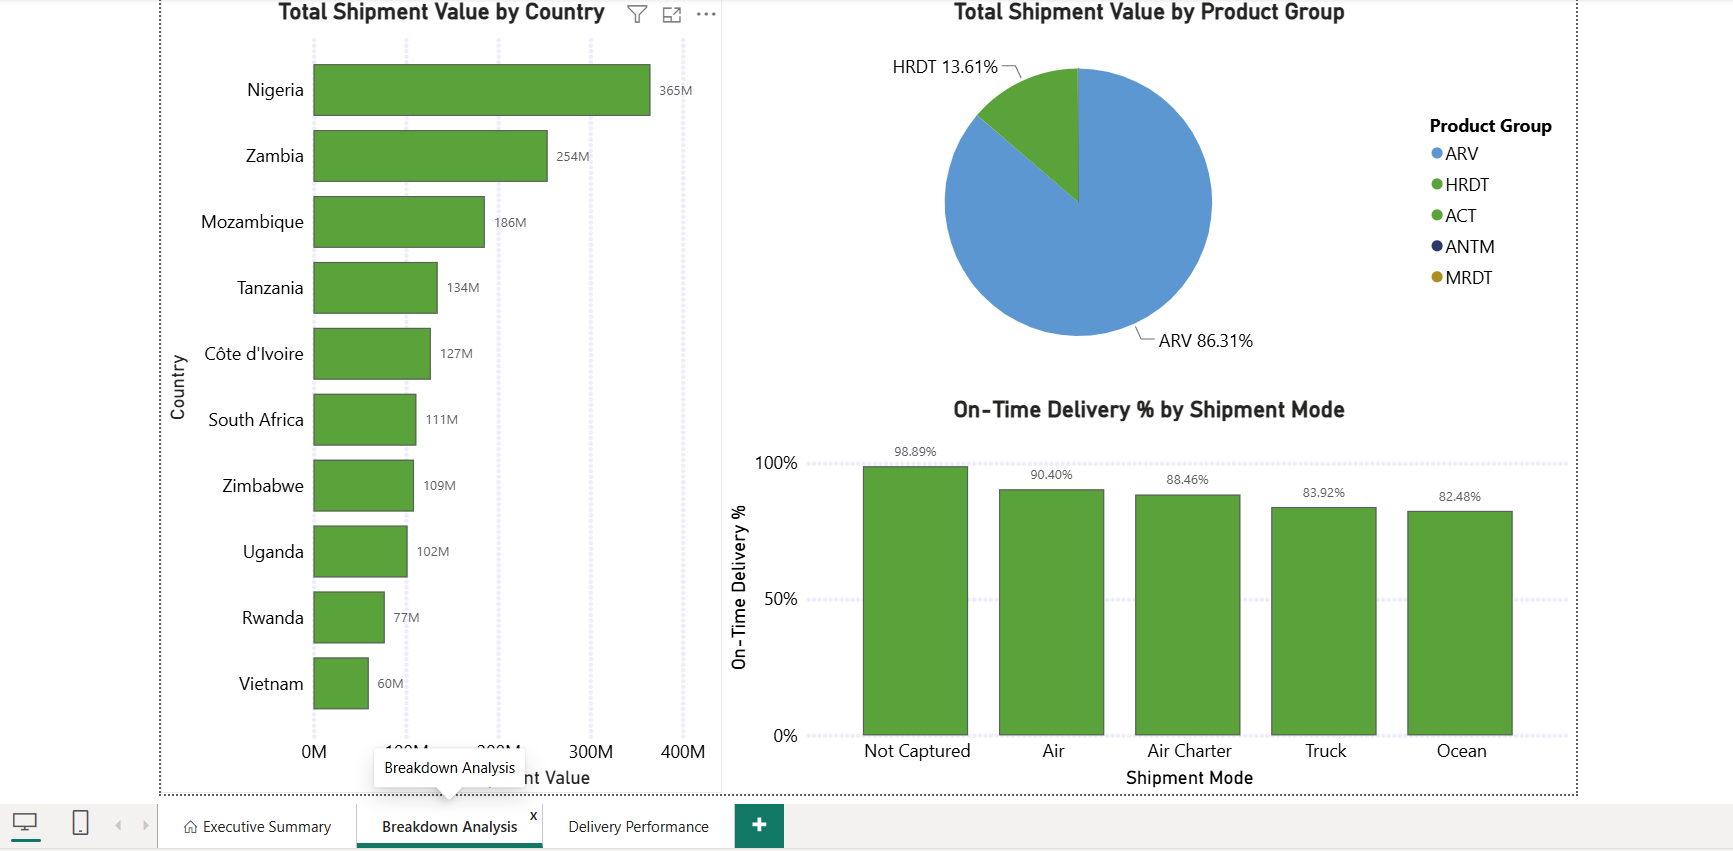

What the dashboard file says about the page in this screenshot:
{"tool":"powerbi","page":{"name":"Breakdown Analysis","canvas":[1280,720],"ordinal":1},"visuals":[{"type":"barChart","fields":{"Category":["cleaned_data.Country"],"Y":["cleaned_data.Total Shipment Value"]},"box":[0,0,507.8,719.5],"z":0},{"type":"clusteredColumnChart","fields":{"Category":["cleaned_data.Shipment Mode"],"Y":["cleaned_data.On-Time Delivery %"]},"box":[507.8,359.7,772.7,359.7],"z":1000},{"type":"pieChart","fields":{"Category":["cleaned_data.Product Group"],"Y":["cleaned_data.Total Shipment Value"]},"box":[507.8,0,772.7,346.8],"z":2000}]}

Visuals, with their boxes on the page's 1280x720 design canvas (x1, y1, x2, y2). These are canvas units, not pixel positions in the 1733x851 screenshot, which may show the page scaled, cropped or inside an application window:
barChart - cleaned_data.Country x cleaned_data.Total Shipment Value: bbox=(0, 0, 508, 720)
clusteredColumnChart - cleaned_data.Shipment Mode x cleaned_data.On-Time Delivery %: bbox=(508, 360, 1280, 719)
pieChart - cleaned_data.Product Group x cleaned_data.Total Shipment Value: bbox=(508, 0, 1280, 347)
